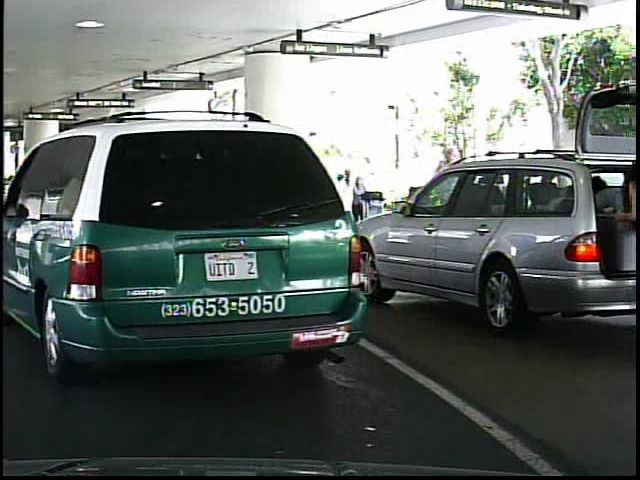person: (424, 141, 468, 261)
